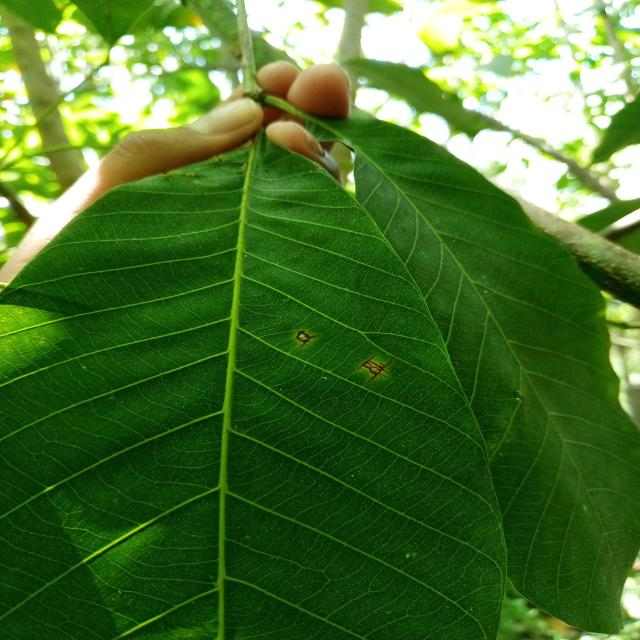Corynespora: (357, 353, 395, 385), (294, 330, 319, 349)
